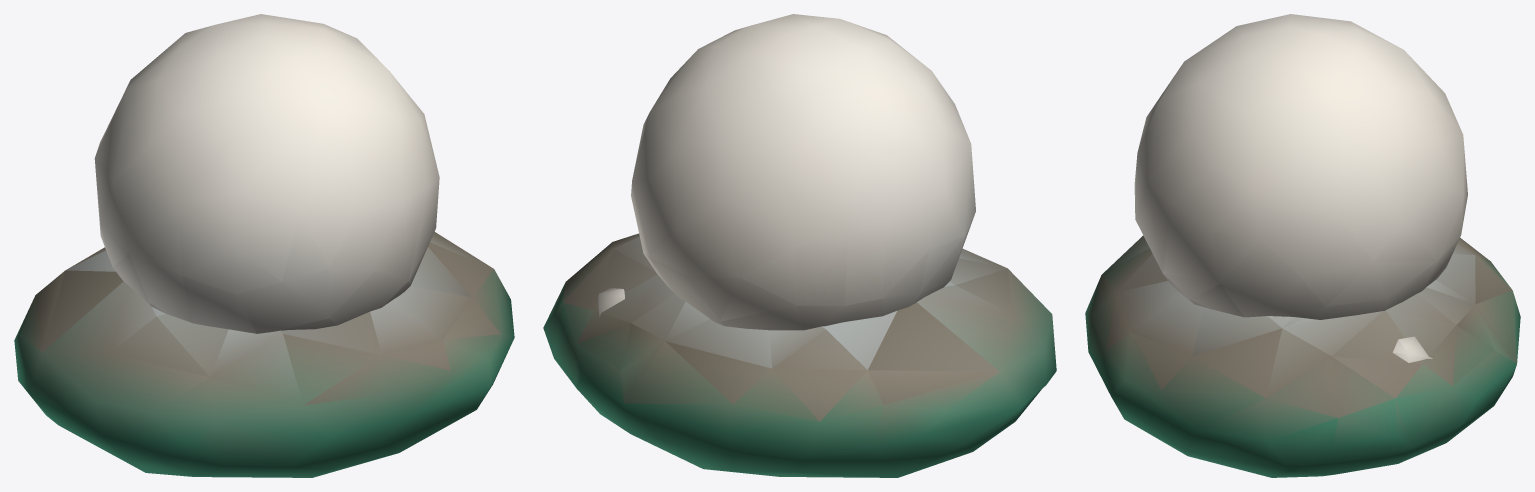
Rendered from grotto_giant_pearl_lod2.glb.
3 views of the same model, side by side, from view 1: azimuth 30°, elevation 25°; view 2: azimuth 150°, elevation 25°; view 3: azimuth 270°, elevation 25° (orthographic). The views are drawn at different scales.
Visible parts, largest first — view 1: grotto_giant_pearl.001; view 2: grotto_giant_pearl.001; view 3: grotto_giant_pearl.001.
Boxes of the visible parts, box(x1,y1,x2,y2) form: grotto_giant_pearl.001: box(14, 14, 514, 477); grotto_giant_pearl.001: box(543, 14, 1056, 477); grotto_giant_pearl.001: box(1085, 14, 1520, 477).
Bounding box in the file's own units: 6.1 × 5.2 × 5.18.
